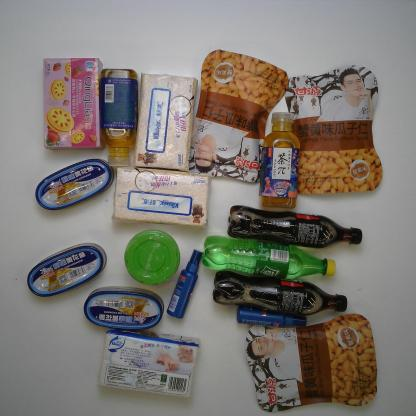Canned Food: (27, 242, 109, 300), (34, 157, 116, 213), (80, 283, 166, 332)
Dessert: (41, 56, 108, 154)
Dried Fruit: (175, 46, 292, 187), (278, 63, 386, 197), (244, 311, 380, 414)
Drink: (200, 232, 342, 283), (209, 269, 352, 319), (226, 202, 365, 252), (256, 111, 302, 212), (98, 65, 139, 171)
Instant Drink: (121, 226, 183, 288)
Personal Hygiene: (163, 244, 204, 320), (232, 304, 310, 334)
Tissue: (95, 324, 202, 402), (109, 165, 214, 233), (132, 71, 200, 174)
